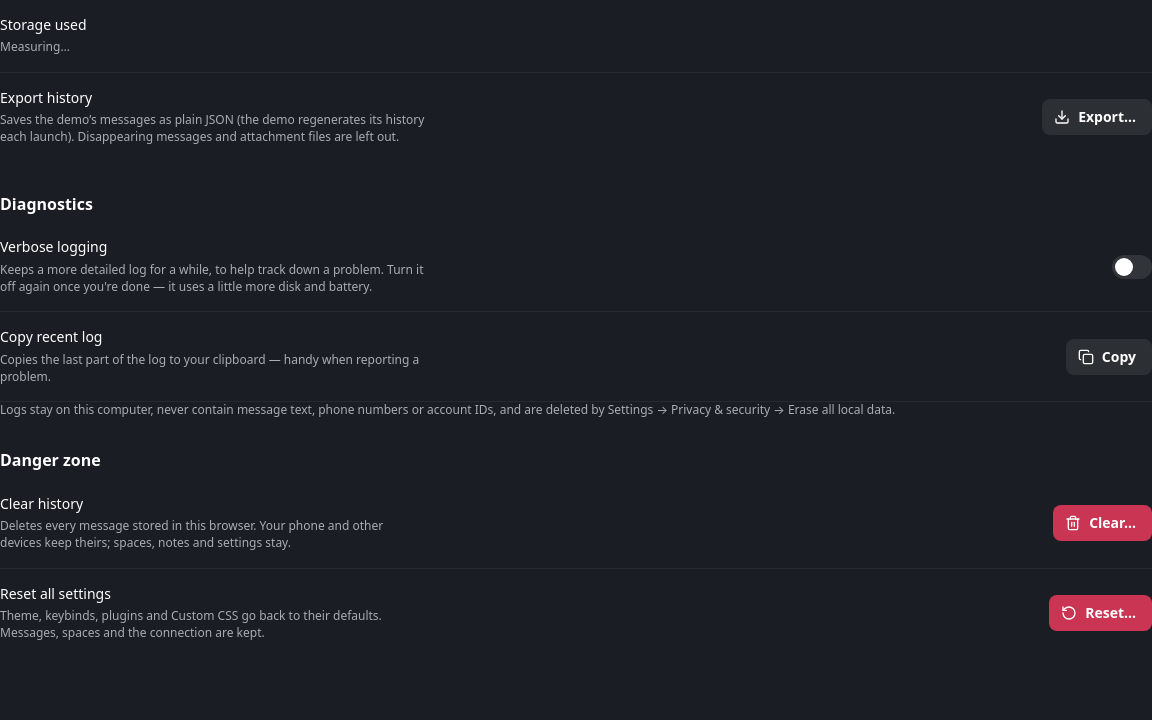
Test: Settings → Data & storage → Export history › warns that the file holds the messages unencrypted before writing anything
Step 1. Click the button "Export…" → x=1097, y=117, box 1042,99 -> 1151,135
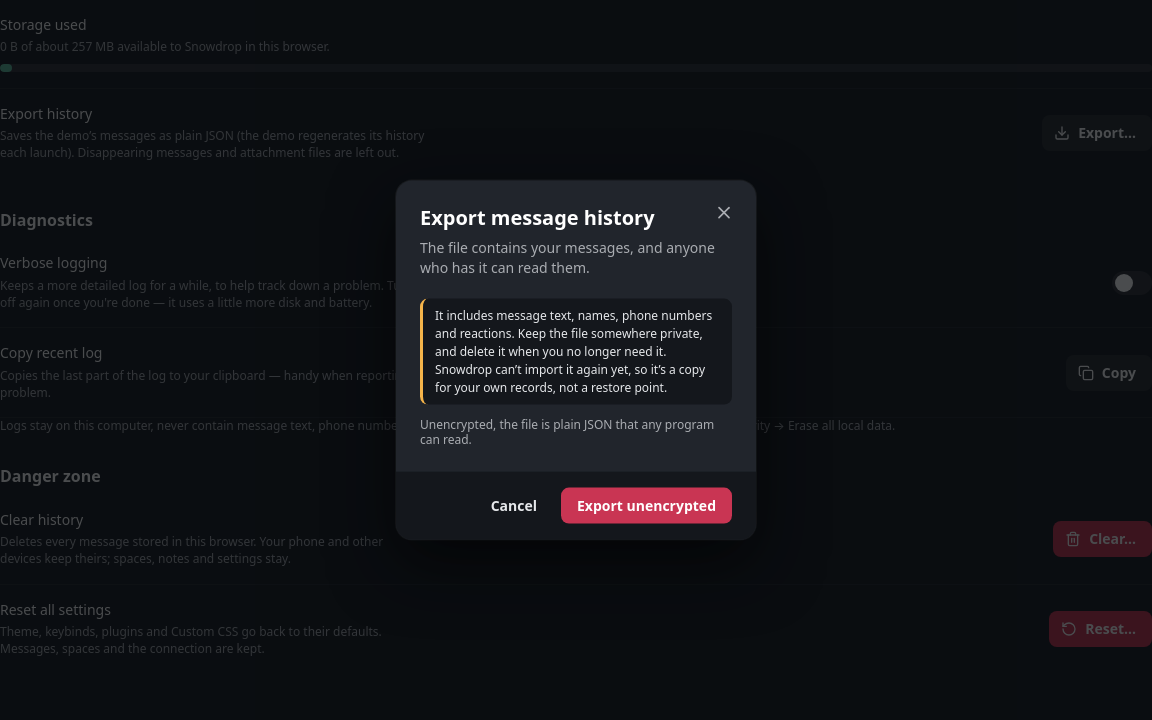
Now the dialog "Export message history" is shown, box 396,181 -> 756,539
Now the text "anyone who has it can read them" is shown, box 420,238 -> 715,277
Now the text "not a restore point" is shown, box 435,306 -> 712,395
